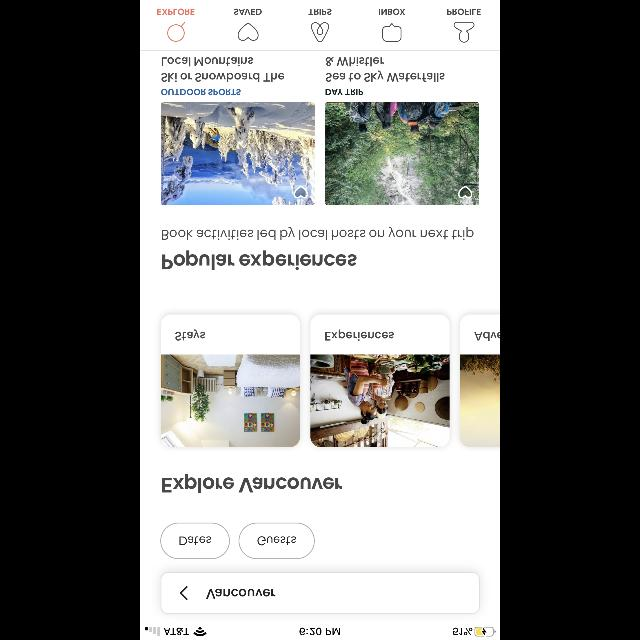icon: (454, 22, 474, 42), (382, 22, 402, 42), (238, 23, 258, 41), (167, 22, 185, 42), (458, 186, 472, 198), (294, 186, 308, 198), (180, 586, 188, 600)
image: (326, 102, 478, 204), (162, 103, 314, 205), (310, 355, 450, 447), (162, 355, 300, 447), (460, 354, 500, 446), (311, 22, 329, 42)
input: (161, 572, 479, 614)
text: (163, 250, 357, 270), (162, 228, 474, 240), (162, 473, 342, 493), (326, 70, 444, 82), (162, 74, 284, 82), (162, 58, 254, 66), (207, 588, 276, 598), (326, 330, 394, 340), (162, 89, 240, 95), (326, 58, 384, 66), (175, 330, 205, 340), (474, 332, 500, 341), (158, 9, 195, 15), (326, 89, 362, 95), (448, 9, 480, 15), (234, 9, 262, 15), (379, 9, 405, 15), (308, 9, 332, 15)
textbutton: (239, 522, 315, 560), (162, 523, 230, 559)
uppertaskbar: (140, 626, 500, 640)
